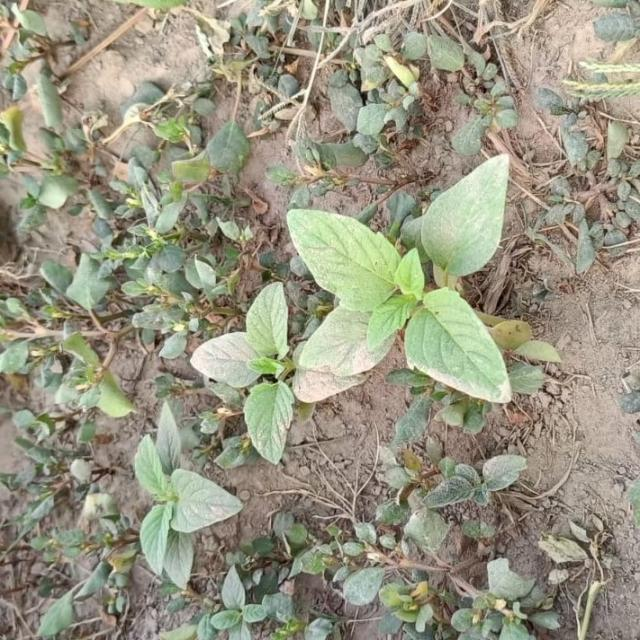plant: (191, 158, 513, 462), (137, 408, 241, 586)
